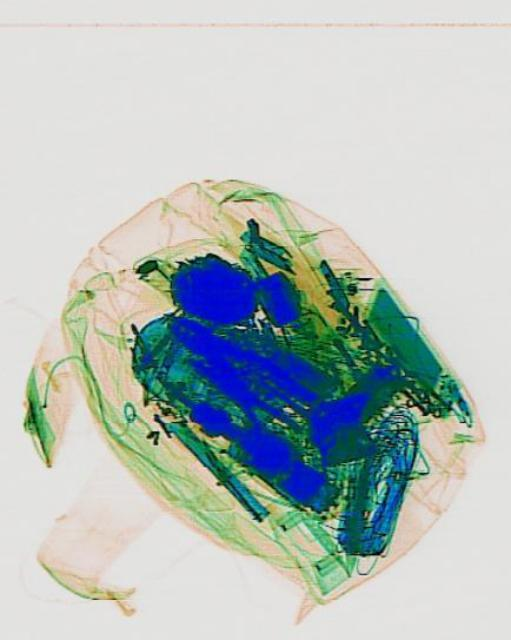Pliers: (156, 292, 313, 442)
